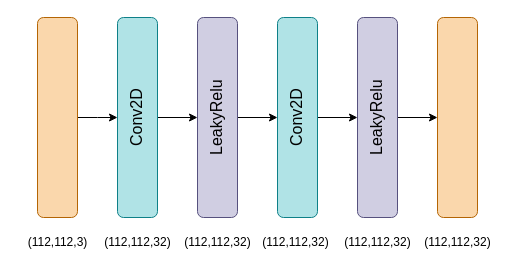
This 519x275 diagram has some shape labels left out. Here are the shapes that lost their labels. From the top down, the box of each, then its label:
(36, 16, 78, 218): Input Layer
(436, 16, 478, 218): Output
